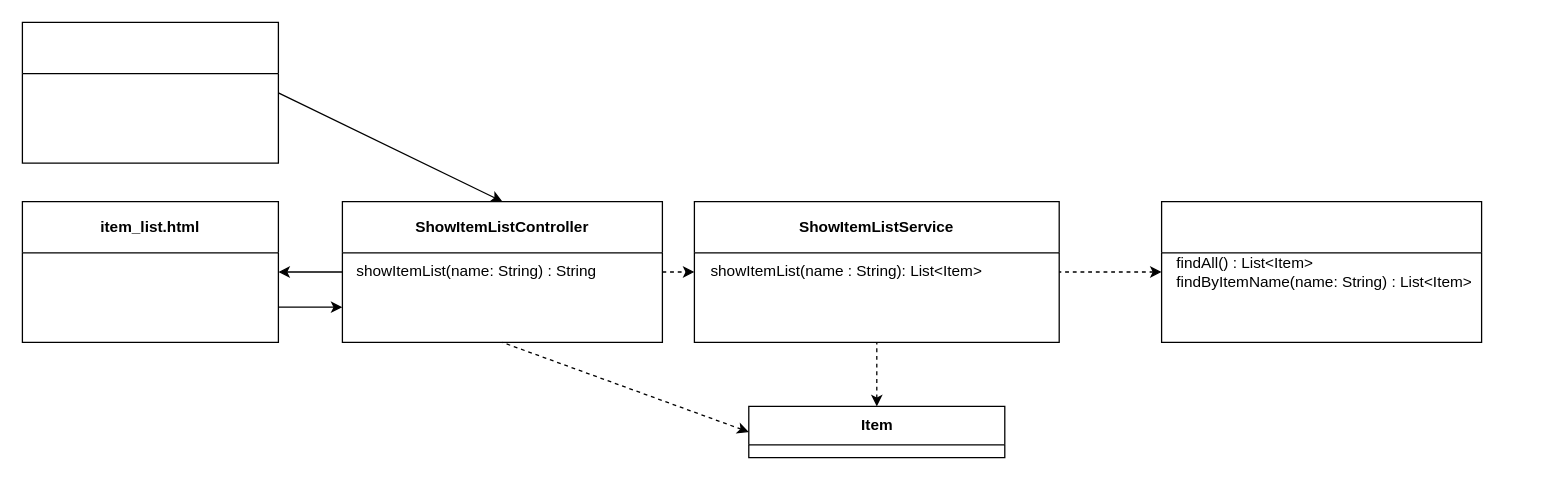
The diagram is 1555 pixels wide and 480 high, and some of its shapes have lost their labels. The box of each missing label's shape, as (x1, y1, x2, y2) in pixels:
ItemRepository: (1160, 200, 1482, 342)
xxx.html: (21, 21, 278, 163)
